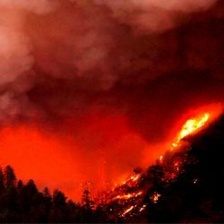fire: (112, 172, 160, 215), (176, 114, 212, 143)
smoke: (7, 1, 170, 121)
